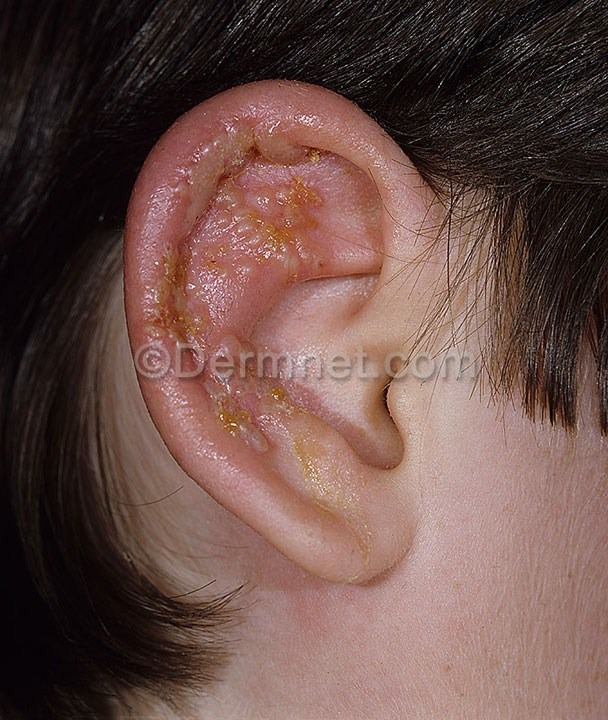Melasma: (243, 192, 402, 578), (224, 52, 456, 145)
